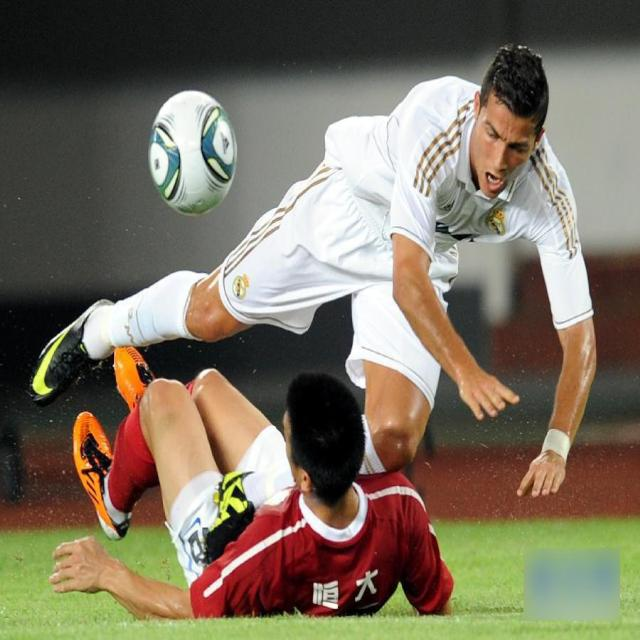obstacle: (9, 38, 615, 537)
